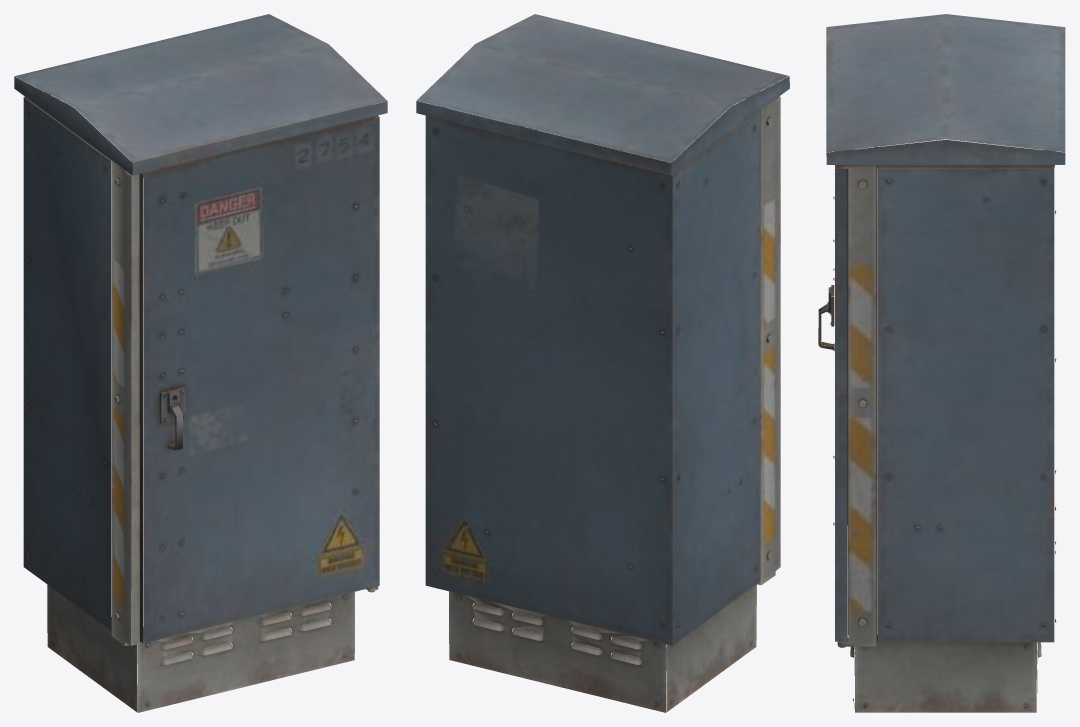
The model's file is utility_box.glb.
3 views of the same model, side by side, from view 1: azimuth 30°, elevation 25°; view 2: azimuth 150°, elevation 25°; view 3: azimuth 270°, elevation 25° (orthographic).
Parts seen in each view (by area): view 1: utility_box; view 2: utility_box; view 3: utility_box.
Part boxes in pixels (left/top/right/bottom): utility_box: left=14, top=14, right=387, bottom=712; utility_box: left=416, top=14, right=789, bottom=712; utility_box: left=818, top=14, right=1065, bottom=712.
Size of the model in its own units: 0.5178 by 1.12 by 0.4303.
Materials: 1 (1 with a texture image).
